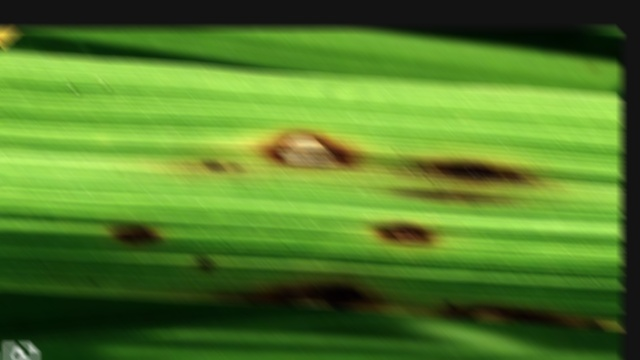Bacterial_Leaf_Blight: (405, 153, 560, 196), (260, 120, 364, 170), (274, 275, 396, 312), (367, 207, 451, 246), (100, 219, 177, 244)
